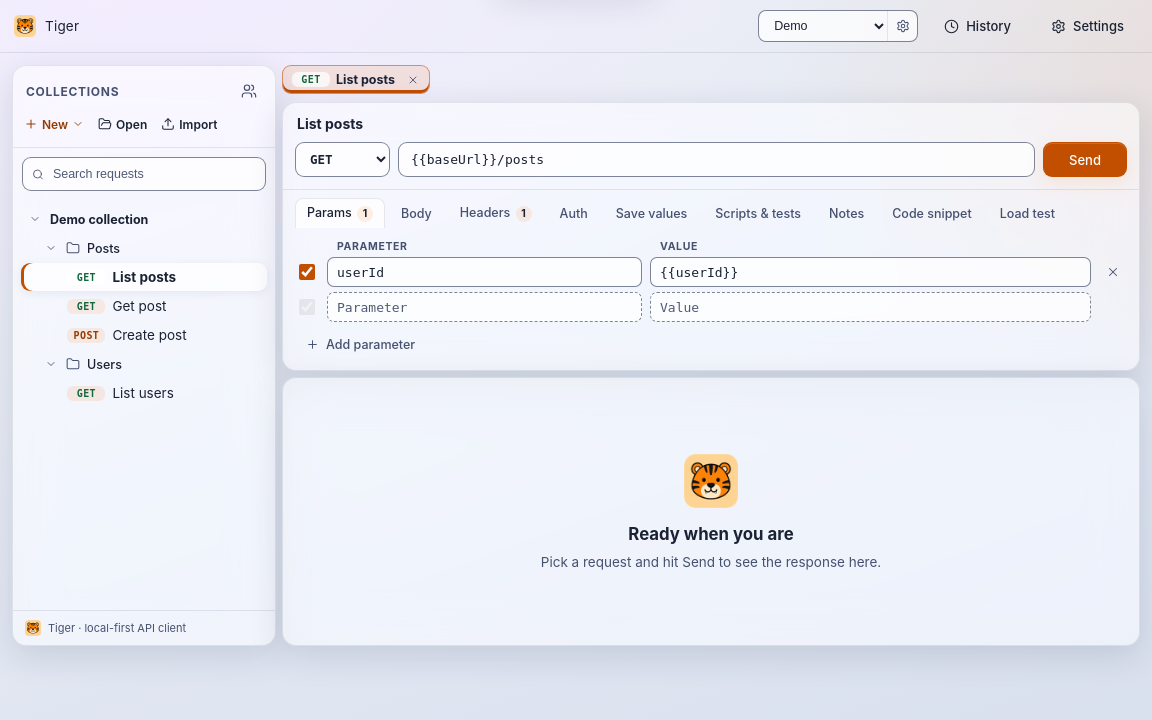
sidebar New menu › New environment opens the manager with a fresh environment
Click the button "New" at (54, 124), box [18, 110, 90, 138]
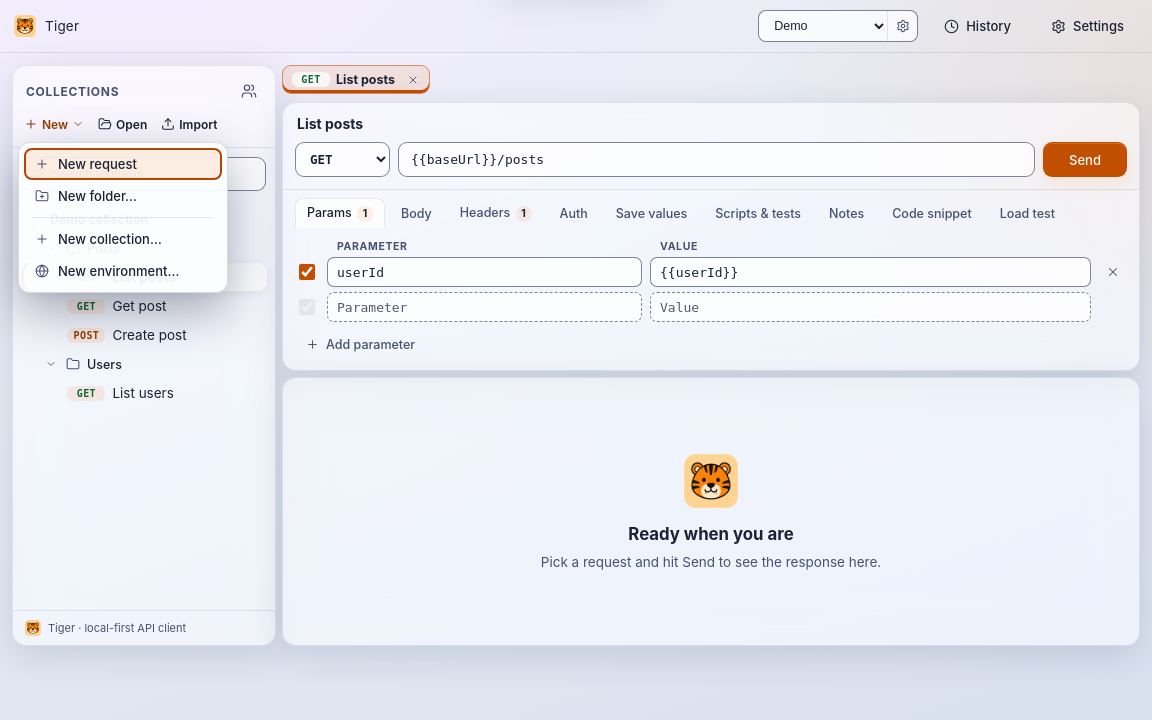
Click the menu item "New environment…" at (123, 271), box [24, 255, 222, 287]
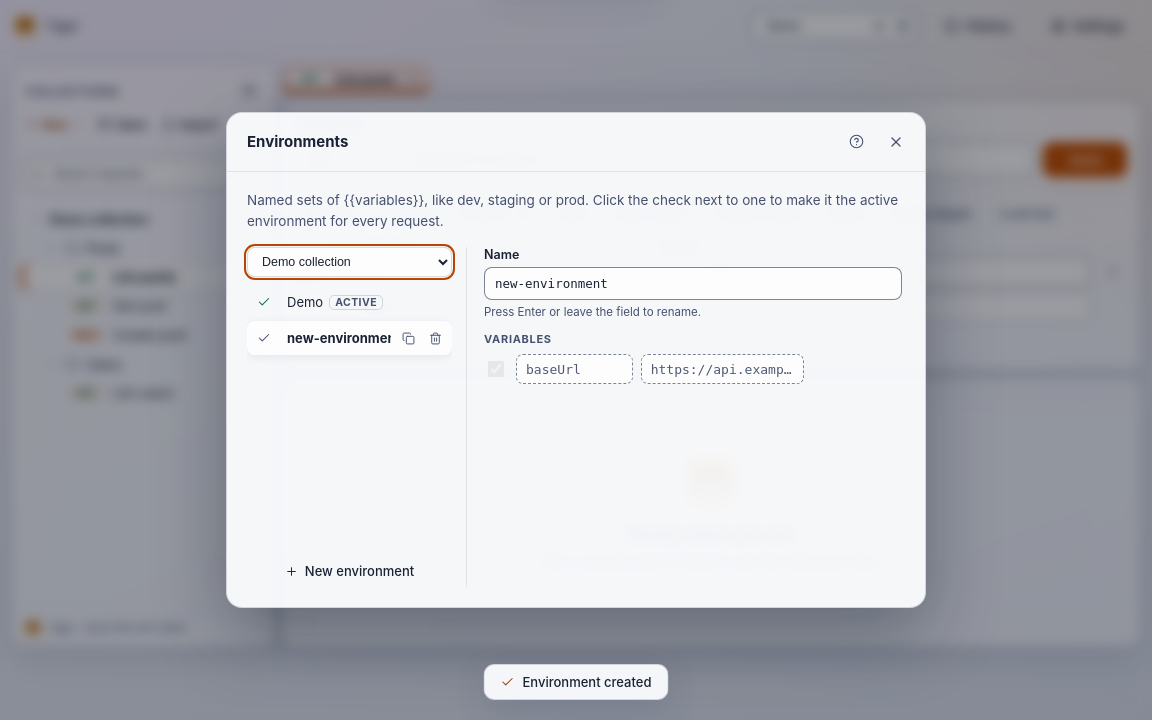
Check: the field showing "new-environment" is shown, box [484, 267, 902, 300]
